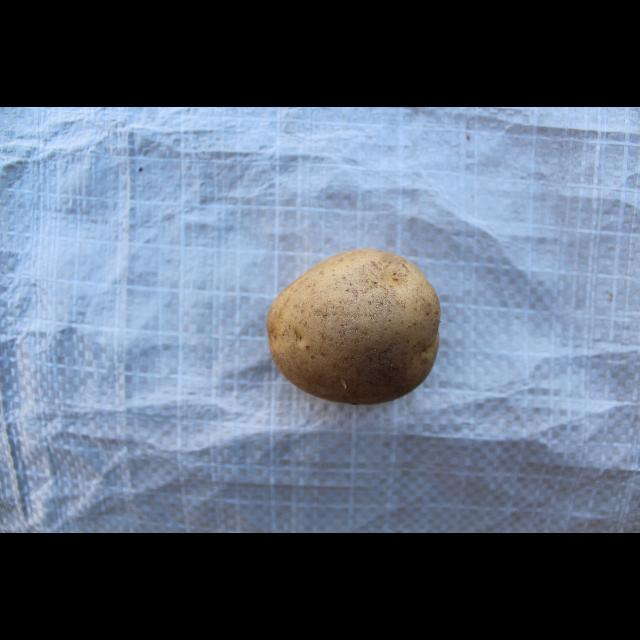Diseased-fungal potato: (264, 242, 450, 408)
